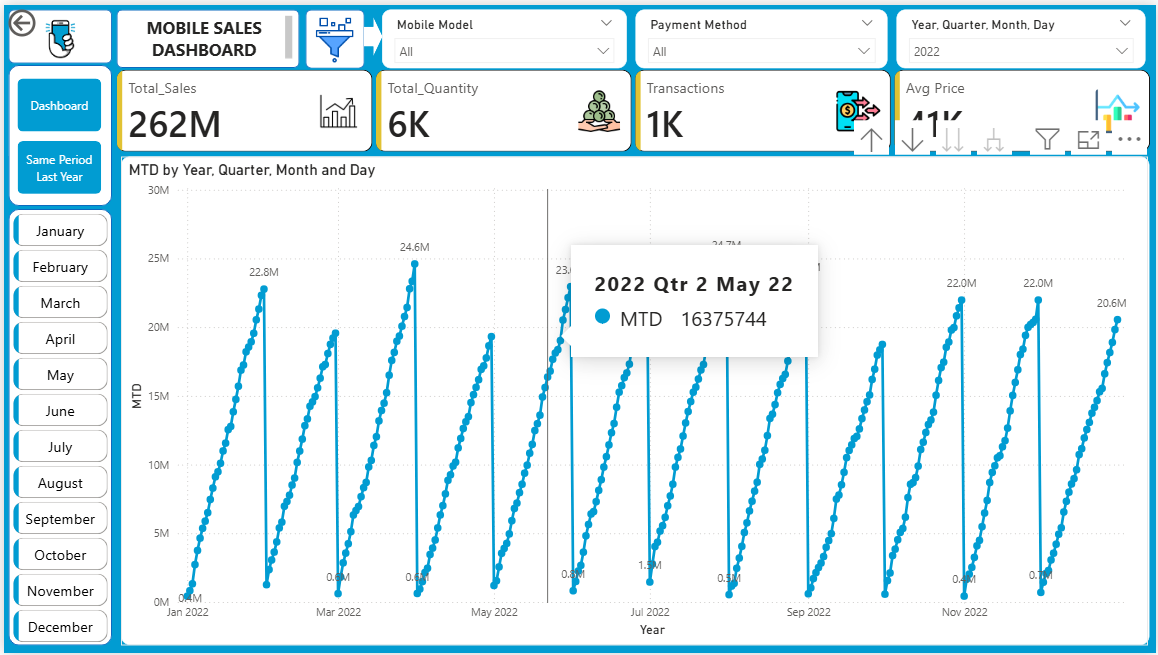

Layout of this report page (visuals, bound fields, positions):
{"tool":"powerbi","page":{"name":"MTD Report","canvas":[1280,720],"ordinal":1},"visuals":[{"type":"shape","box":[5,5,115,60],"z":0},{"type":"shape","box":[5,66.7,115,156.7],"z":1000},{"type":"shape","box":[5,226.7,115,485],"z":2000},{"type":"advancedSlicerVisual","fields":{"Values":["Custom_Calender.Date.Variation.Date Hierarchy.Month"]},"box":[5,226.7,115,493.3],"z":3000},{"type":"cardVisual","fields":{"Data":["Mobile_Sales_Data.Total_Sales","Mobile_Sales_Data.Total_Quantity","Mobile_Sales_Data.Transactions","Mobile_Sales_Data.Avg Price"]},"box":[120.4,67.2,1159.7,101.6],"z":4000},{"type":"slicer","fields":{"Values":["Mobile_Sales_Data.Mobile Model"]},"box":[420.4,4.7,272,65.6],"z":5000},{"type":"slicer","fields":{"Values":["Mobile_Sales_Data.Payment Method"]},"box":[701.7,5,280,65],"z":6000},{"type":"slicer","fields":{"Values":["Custom_Calender.Date.Variation.Date Hierarchy.Year","Custom_Calender.Date.Variation.Date Hierarchy.Quarter","Custom_Calender.Date.Variation.Date Hierarchy.Month","Custom_Calender.Date.Variation.Date Hierarchy.Day"]},"box":[991.7,5,276.7,65],"z":7000},{"type":"shape","box":[334.5,4.7,65.6,65.6],"z":8000},{"type":"image","box":[342.3,9.4,51.6,57.8],"z":9000},{"type":"shape","box":[400,13.6,20.7,43.6],"z":10000},{"type":"shape","box":[125,5,203.3,65],"z":11000},{"type":"textbox","box":[128.3,6.7,196.7,58.3],"z":12000},{"type":"lineChart","fields":{"Y":["Mobile_Sales_Data.MTD"],"Category":["Custom_Calender.Date.Variation.Date Hierarchy.Year","Custom_Calender.Date.Variation.Date Hierarchy.Quarter","Custom_Calender.Date.Variation.Date Hierarchy.Month","Custom_Calender.Date.Variation.Date Hierarchy.Day"]},"box":[129.7,168.8,1142.5,542.4],"z":13000},{"type":"actionButton","box":[0,0,100,40],"z":14000},{"type":"pageNavigator","box":[15.6,81.3,93.8,129.7],"z":15000},{"type":"image","box":[25,10,75,55],"z":16000}]}

Visuals, with their boxes on the page's 1280x720 design canvas (x1, y1, x2, y2). These are canvas units, not pixel positions in the 1158x655 screenshot, which may show the page scaled, cropped or inside an application window:
shape: (5,5,120,65)
shape: (5,67,120,223)
shape: (5,227,120,712)
advancedSlicerVisual - Custom_Calender.Date.Variation.Date Hierarchy.Month: (5,227,120,720)
cardVisual - Mobile_Sales_Data.Total_Sales x Mobile_Sales_Data.Total_Quantity: (120,67,1280,169)
slicer - Mobile_Sales_Data.Mobile Model: (420,5,692,70)
slicer - Mobile_Sales_Data.Payment Method: (702,5,982,70)
slicer - Custom_Calender.Date.Variation.Date Hierarchy.Year x Custom_Calender.Date.Variation.Date Hierarchy.Quarter: (992,5,1268,70)
shape: (334,5,400,70)
image: (342,9,394,67)
shape: (400,14,421,57)
shape: (125,5,328,70)
textbox: (128,7,325,65)
lineChart - Mobile_Sales_Data.MTD x Custom_Calender.Date.Variation.Date Hierarchy.Year: (130,169,1272,711)
actionButton: (0,0,100,40)
pageNavigator: (16,81,109,211)
image: (25,10,100,65)
